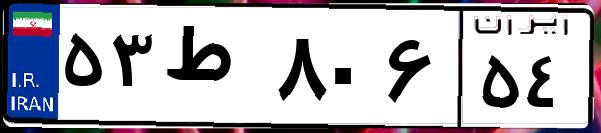0: (330, 28, 385, 110)
3: (110, 28, 158, 98)
4: (525, 38, 570, 115)
5: (57, 26, 110, 100), (475, 38, 525, 113)
6: (385, 28, 445, 110)
8: (270, 28, 330, 110)
ط: (158, 20, 270, 120)
